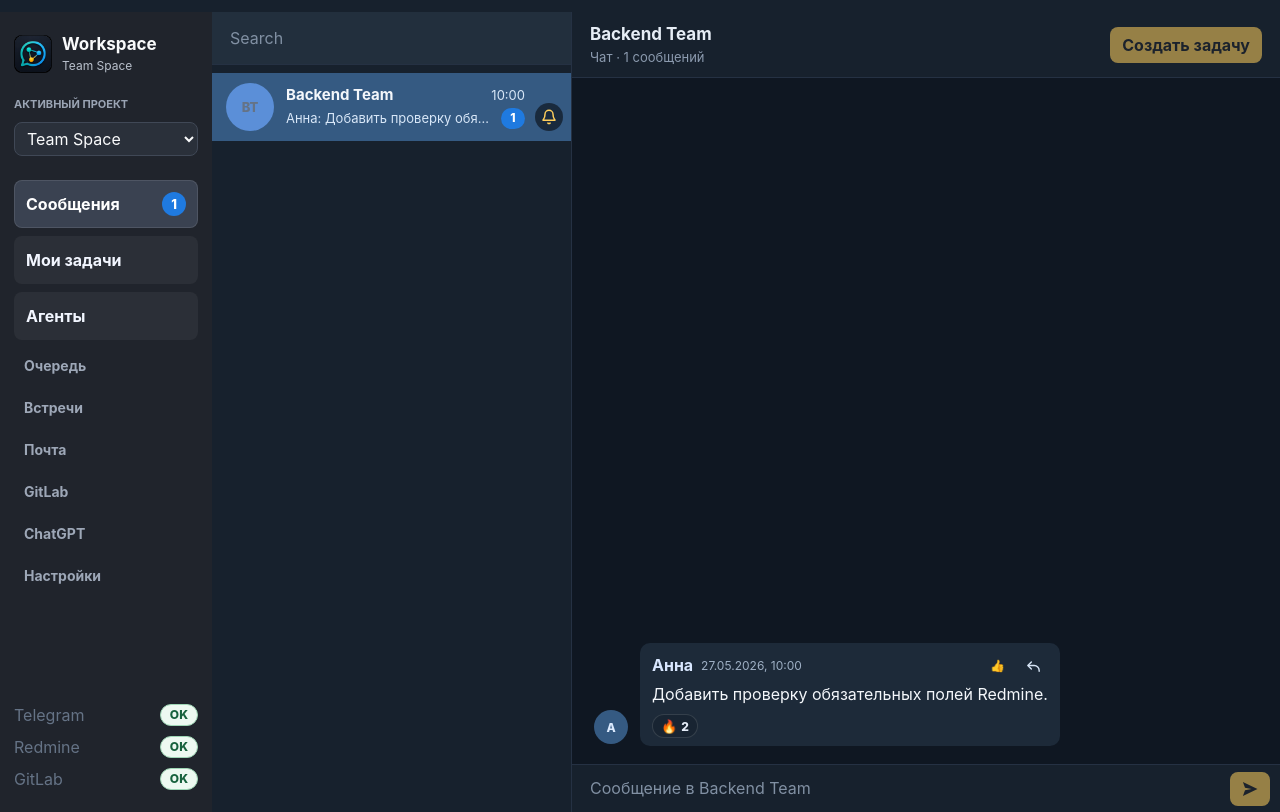
it: App › shows Telegram reaction authors when opening a reaction badge
Expected: the heading "Backend Team" is shown, [590,24,712,46]
Click the heading named "Реакция 🔥: 2. Анна, Петр".
click(675, 726)  # box [652,714,698,738]
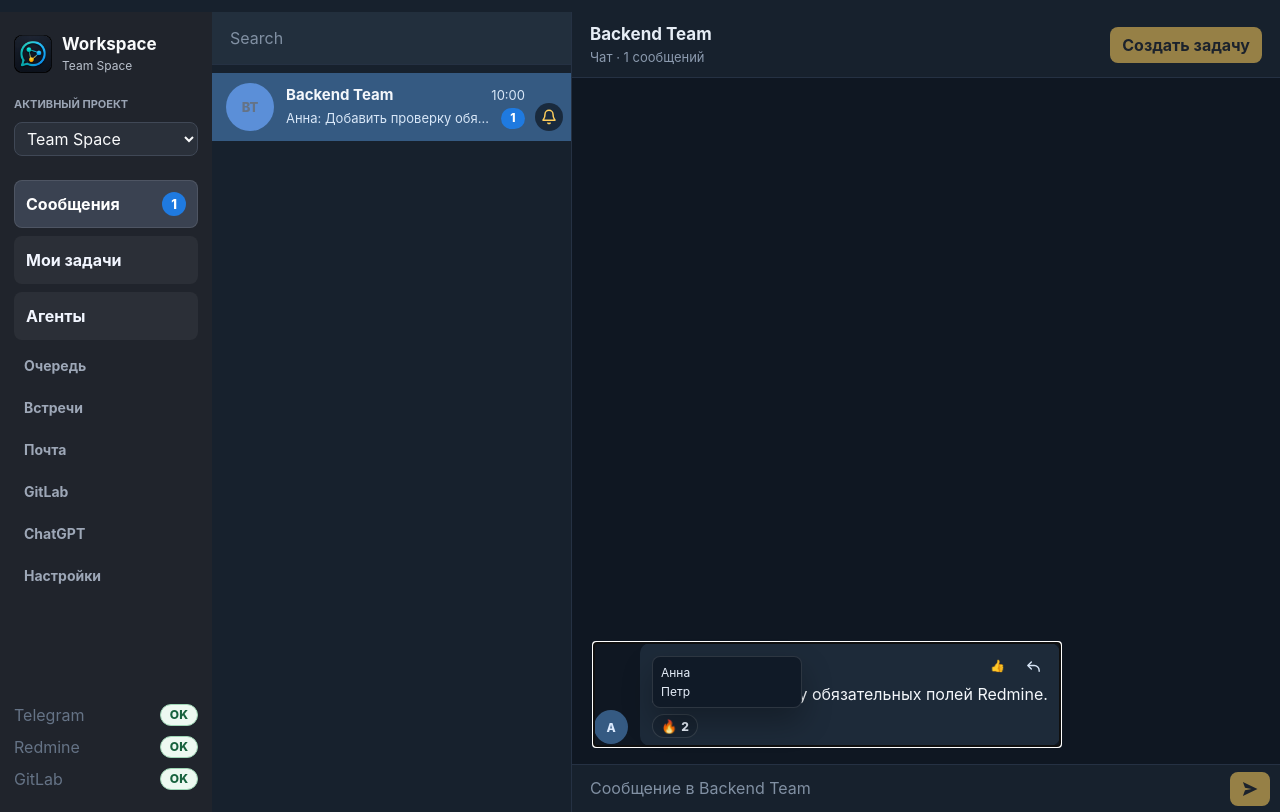
Expected: the text "Петр" is shown, [661,684,690,699]
